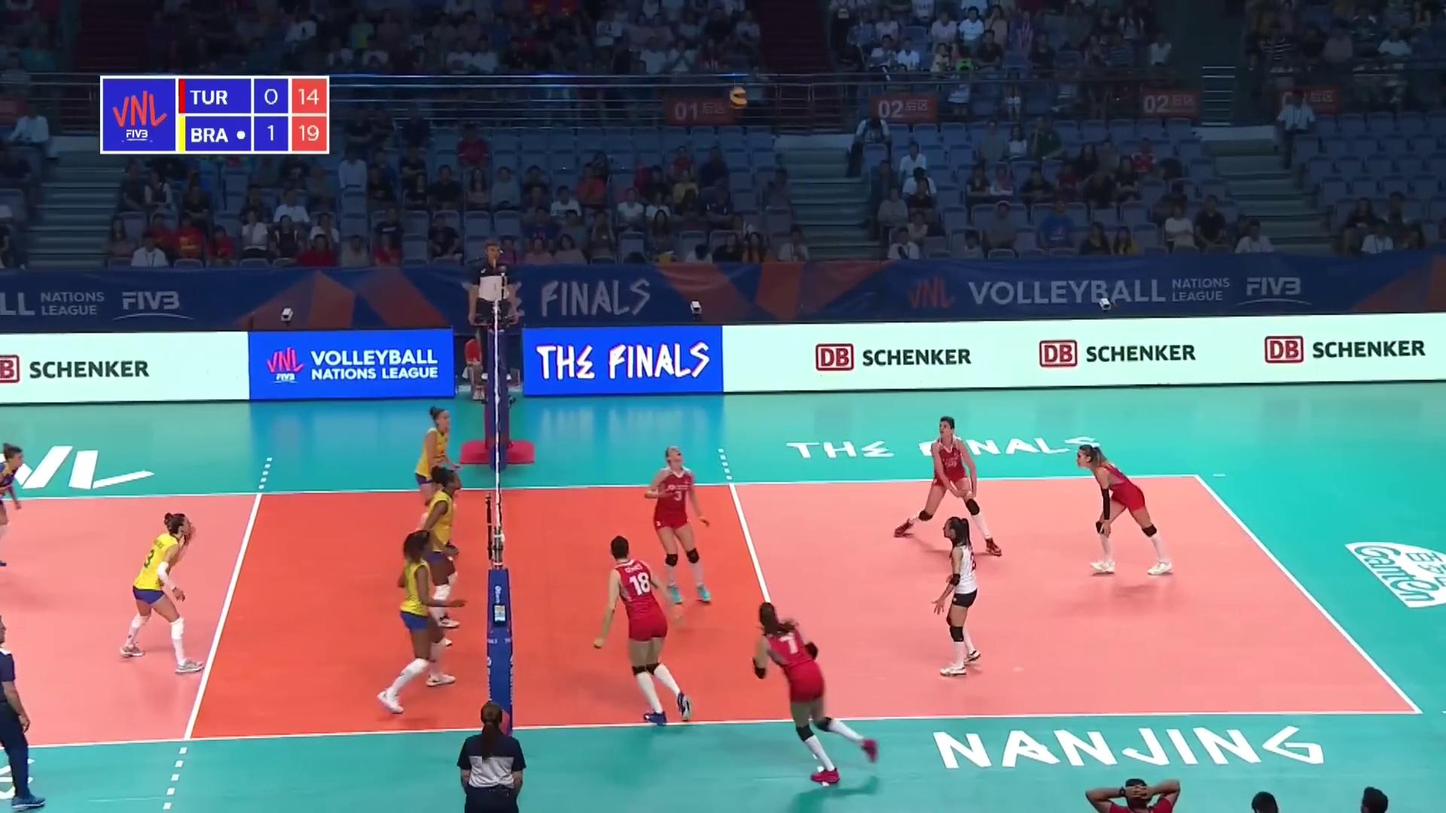player: (750, 609, 883, 791), (593, 535, 700, 720), (892, 416, 1005, 552), (378, 535, 457, 713), (1076, 444, 1174, 578), (121, 513, 201, 675), (640, 448, 714, 607), (932, 519, 986, 677), (419, 465, 462, 645), (415, 405, 456, 559), (0, 441, 26, 577)
refree: (455, 701, 528, 813), (469, 244, 517, 384)
